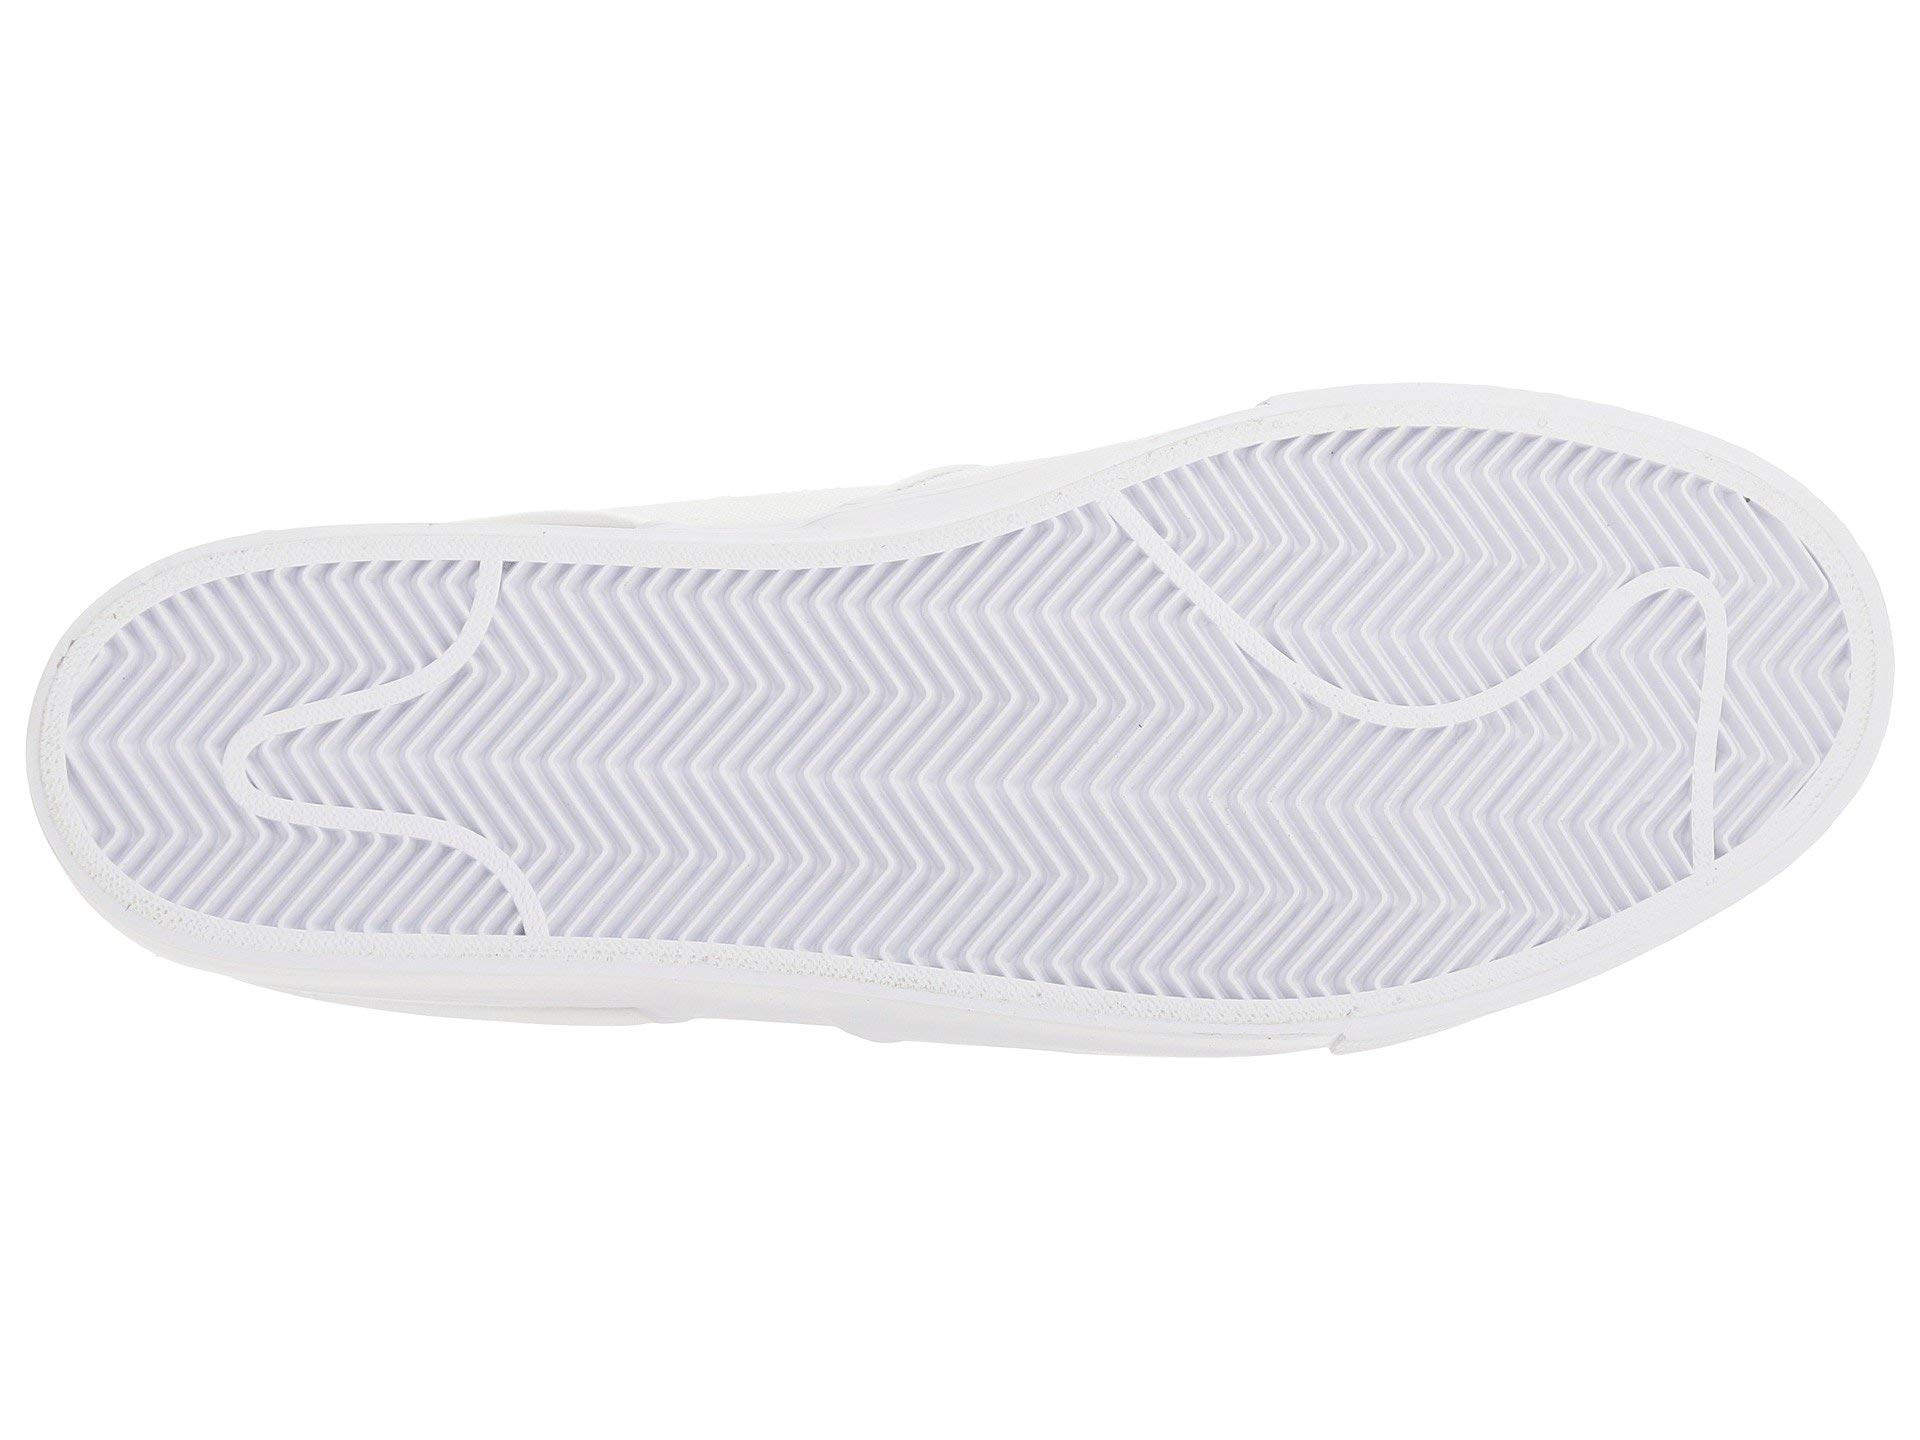chevron: (1321, 526, 1671, 885), (943, 623, 1259, 951), (553, 604, 862, 924)
